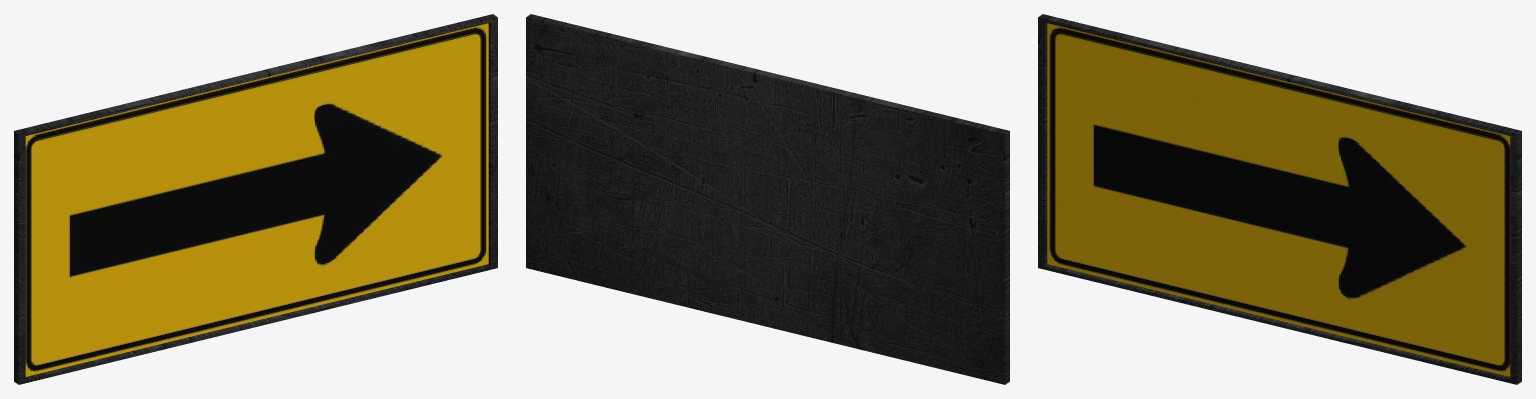
The model's file is flecha.fbx.
The picture shows the model from 3 angles, left to right: view 1: azimuth 30°, elevation 25°; view 2: azimuth 150°, elevation 25°; view 3: azimuth 330°, elevation 25°; orthographic projection.
Parts seen in each view (by area): view 1: Plane.001; view 2: Plane.001; view 3: Plane.001.
Boxes of the visible parts, left/top/right/bottom form: Plane.001: left=14, top=14, right=497, bottom=384; Plane.001: left=526, top=14, right=1009, bottom=384; Plane.001: left=1038, top=14, right=1521, bottom=384.
Bounding box in the file's own units: 400 × 200 × 6.73.
Materials: 2 (2 with a texture image).
